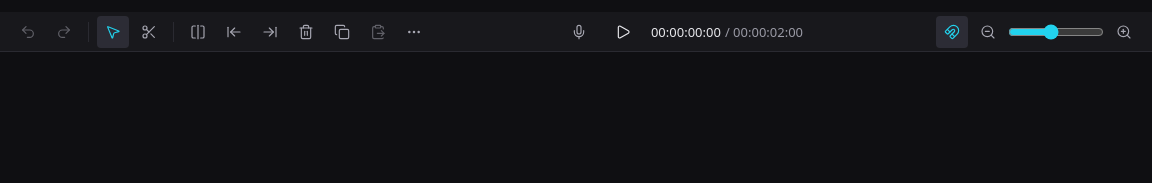
Test case: TimelineToolbar › o menu de ações tem Excluir e fechar espaço, que apaga com ripple
Expected: the menu item "Excluir e fechar espaço" is not shown
What coordinates should you click on to do the following:
click the button named "Mais ações"
I would click on:
 (414, 32)
Its box is [398,16,430,48].
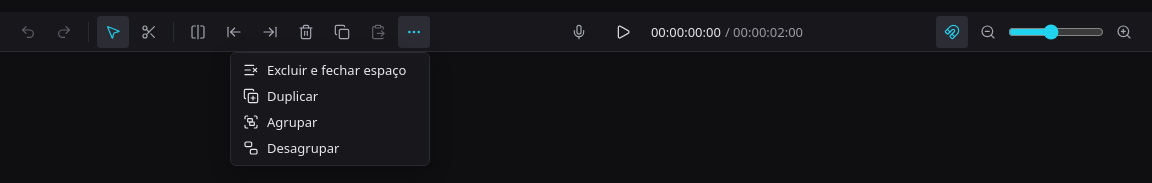
What coordinates should you click on to do the following:
click the menu item "Excluir e fechar espaço"
I would click on:
 (330, 70)
Its box is [235,56,425,82].
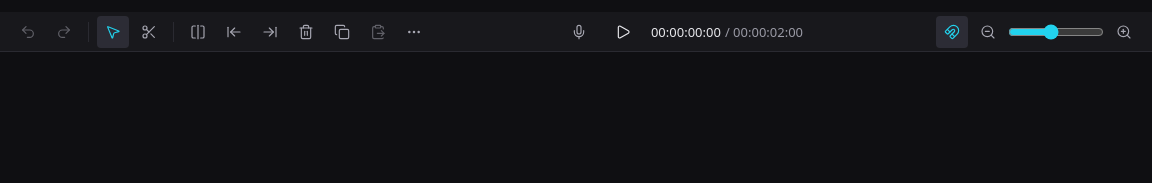
Result: the menu is gone
